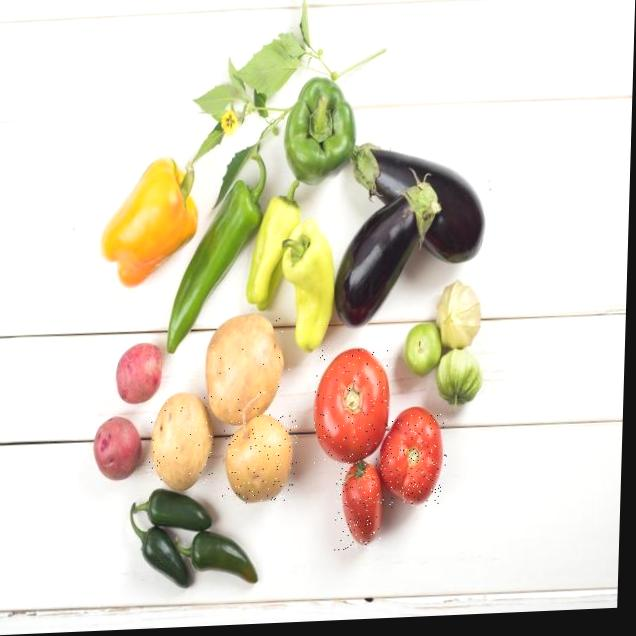Potato: (203, 311, 291, 430), (222, 405, 299, 504), (143, 393, 216, 487)
Tomato: (313, 345, 393, 464), (379, 413, 448, 510), (334, 460, 384, 550)
